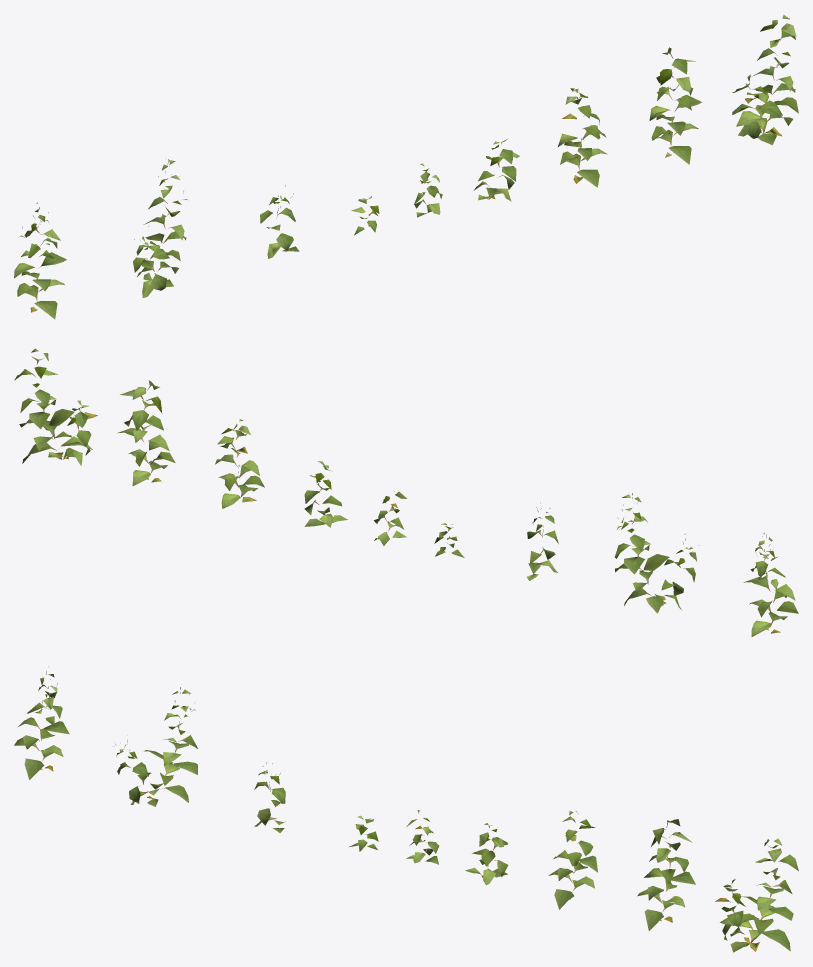
Rendered from shrub_01.glb.
3 views of the same model, one above another, from view 1: azimuth 30°, elevation 25°; view 2: azimuth 150°, elevation 25°; view 3: azimuth 330°, elevation 25° (orthographic). The views are drawn at different scales.
Parts seen in each view (by area): view 1: shrub_01_a; view 2: shrub_01_a; view 3: shrub_01_a.
Boxes of the visible parts, box(x1,y1,x2,y2) form: shrub_01_a: box(14, 14, 798, 319); shrub_01_a: box(14, 348, 798, 636); shrub_01_a: box(14, 666, 798, 952).
Size of the model in its own units: 2.59 by 0.38 by 0.2057.
1 material, 1 textured.
